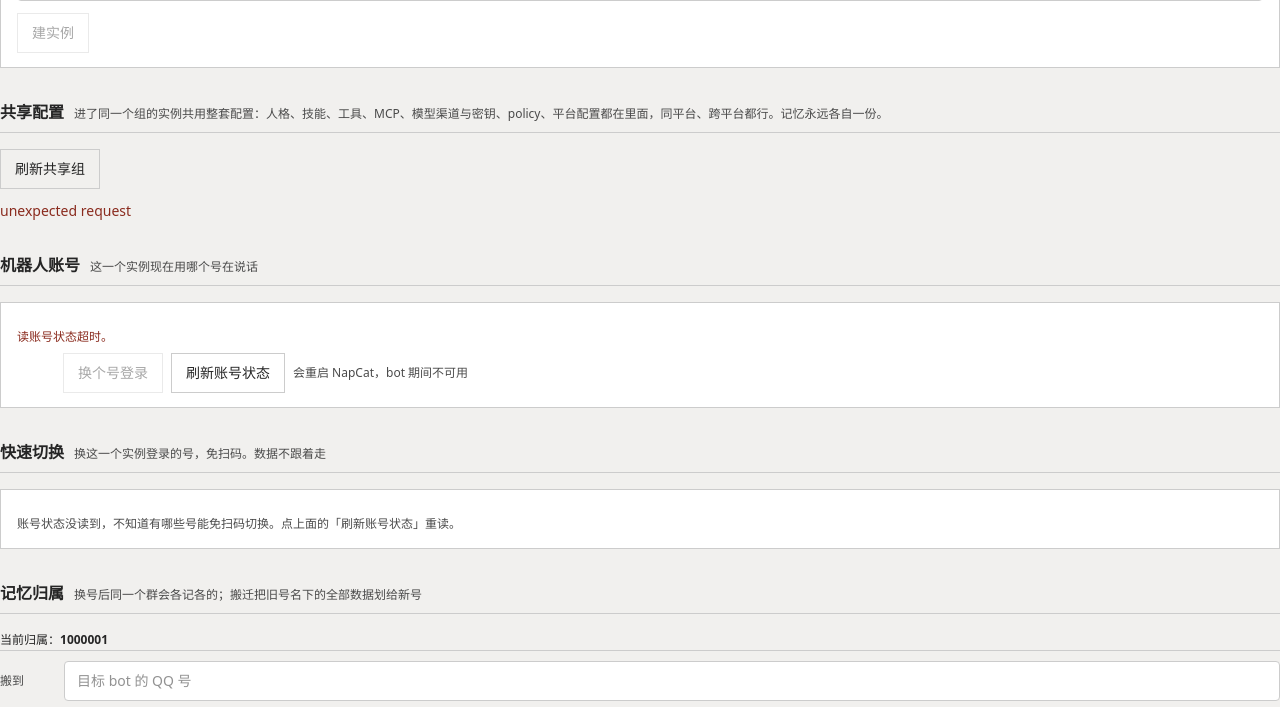
Test: 账号页的提示 › 首次读状态失败：快速切换那块说没读到，不说没有可切的号
The width and height of the screenshot is (1280, 707).
(page scrolled)
Expected: the text "账号状态没读到，不知道有哪些号能免扫码切换。点上面的「刷新账号状态」重读。" is shown, [17, 515, 461, 532]
Click the button "刷新账号状态". click: (228, 373)
box: [171, 353, 285, 393]
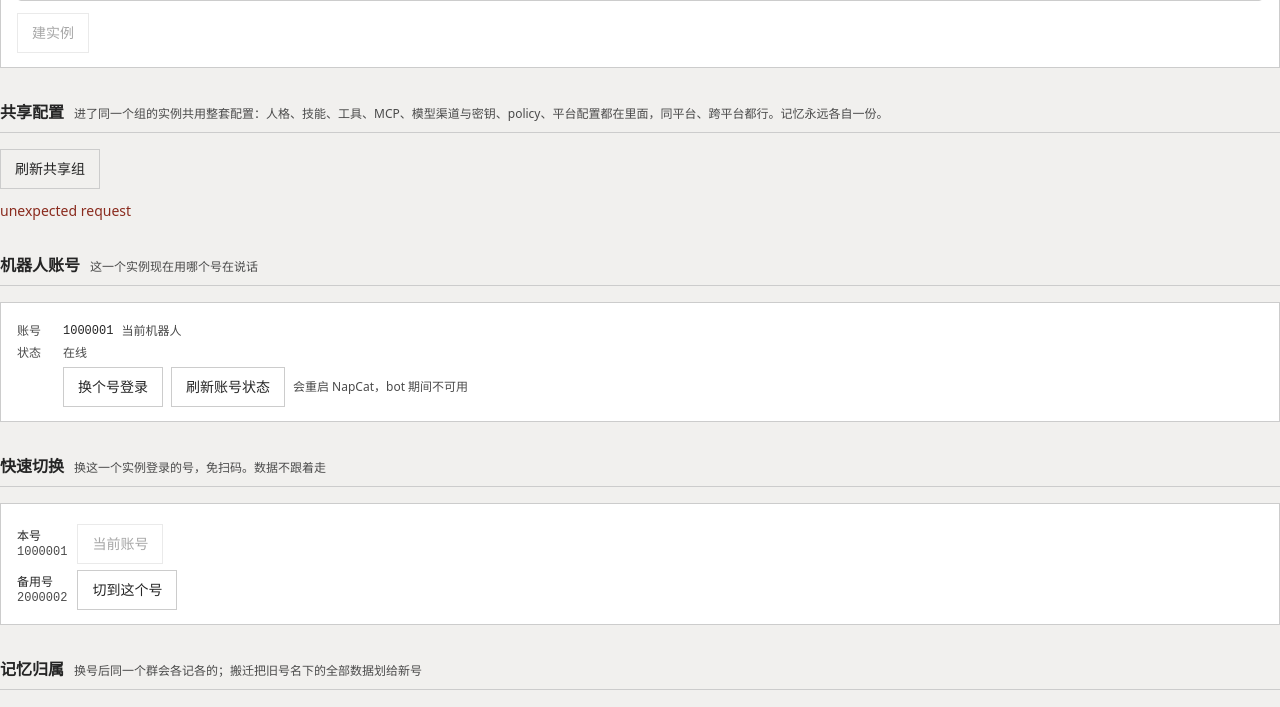
Expected: the button "切到这个号" is enabled, [77, 570, 177, 610]
Expected: the text "账号状态没读到" is gone
